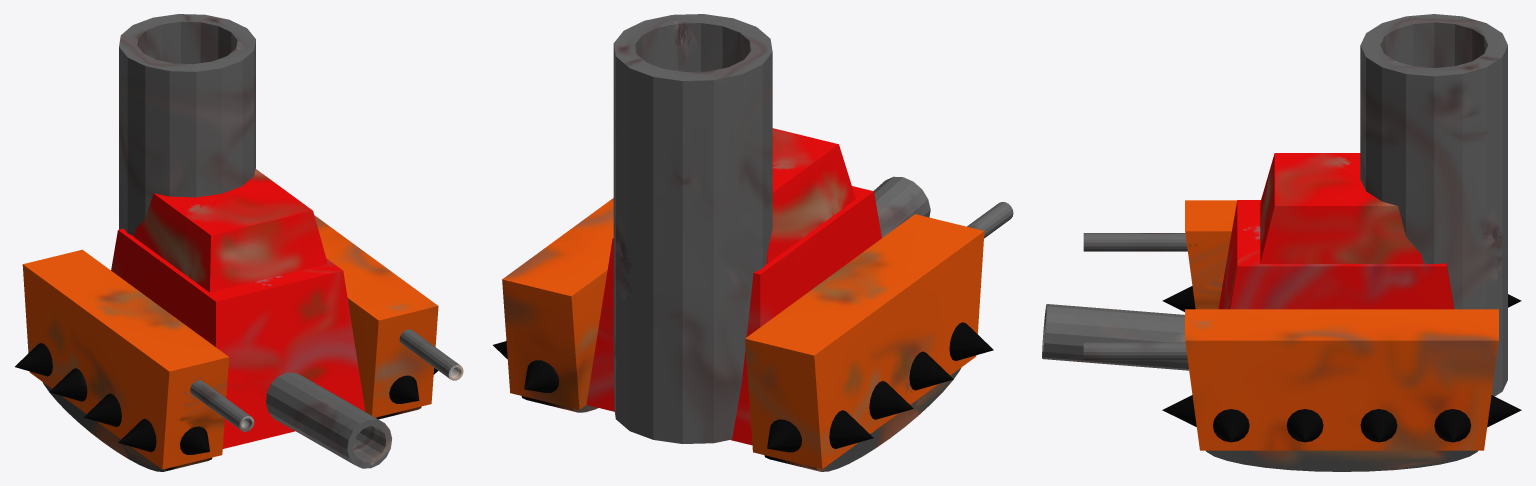
Rendered from Boss.obj.
3 views of the same model, side by side, from view 1: azimuth 30°, elevation 25°; view 2: azimuth 150°, elevation 25°; view 3: azimuth 270°, elevation 25° (orthographic). The views are drawn at different scales.
Visible parts, largest first — view 1: Boss; view 2: Boss; view 3: Boss.
Part boxes in pixels (box(x1,y1,x2,y2)): Boss: box(15, 14, 463, 471); Boss: box(493, 14, 1013, 471); Boss: box(1042, 14, 1521, 471).
Bounding box in the file's own units: 44 × 43.1 × 52.01.
1 material, 1 textured.
